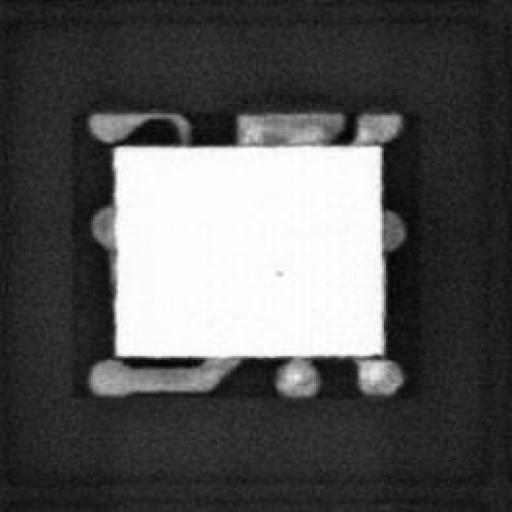DIE_INK: (268, 264, 283, 278)
